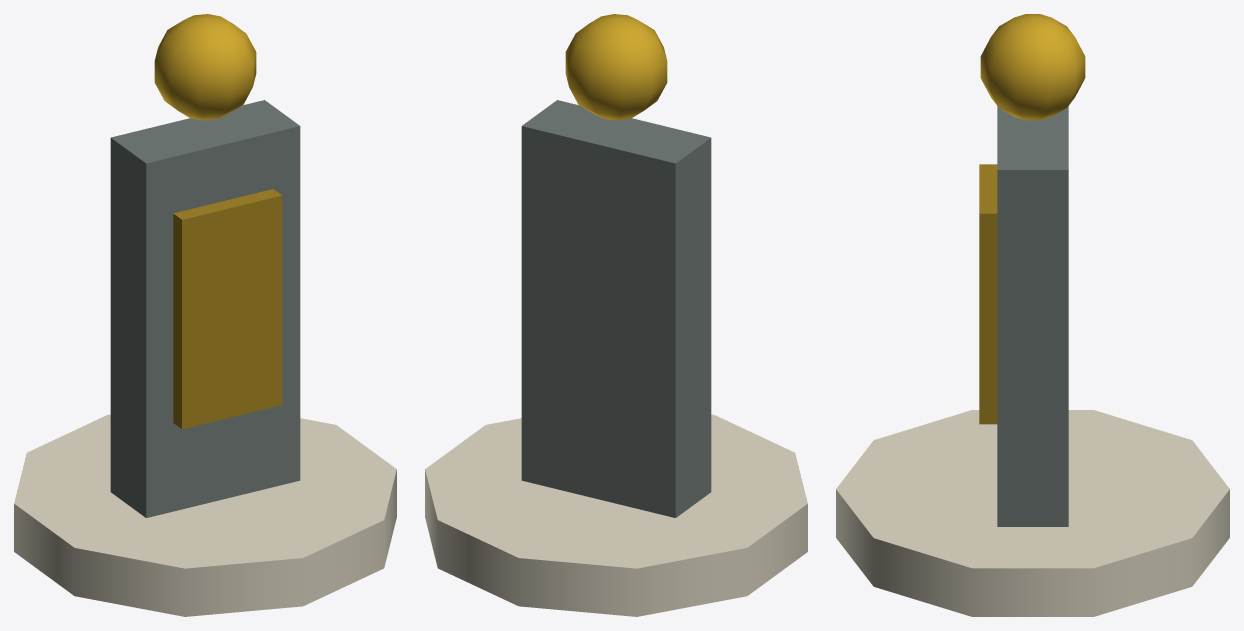
File: node_ji_yuan.glb
The picture shows the model from 3 angles, left to right: view 1: azimuth 30°, elevation 25°; view 2: azimuth 150°, elevation 25°; view 3: azimuth 270°, elevation 25°; orthographic projection.
Parts seen in each view (by area): view 1: _MeshInstance3D_312, _MeshInstance3D_311, _MeshInstance3D_313, _MeshInstance3D_314; view 2: _MeshInstance3D_312, _MeshInstance3D_311, _MeshInstance3D_314; view 3: _MeshInstance3D_311, _MeshInstance3D_312, _MeshInstance3D_314, _MeshInstance3D_313.
Boxes of the visible parts, x1,y1,x2,y2 form: _MeshInstance3D_312: (110, 100, 300, 517); _MeshInstance3D_311: (14, 414, 396, 616); _MeshInstance3D_313: (173, 189, 282, 429); _MeshInstance3D_314: (154, 14, 256, 120); _MeshInstance3D_312: (521, 100, 711, 517); _MeshInstance3D_311: (425, 414, 807, 616); _MeshInstance3D_314: (565, 14, 667, 120); _MeshInstance3D_311: (836, 410, 1229, 616); _MeshInstance3D_312: (997, 106, 1068, 526); _MeshInstance3D_314: (980, 14, 1085, 120); _MeshInstance3D_313: (979, 164, 997, 424).
Bounding box in the file's own units: 0.4185 × 0.64 × 0.44.
